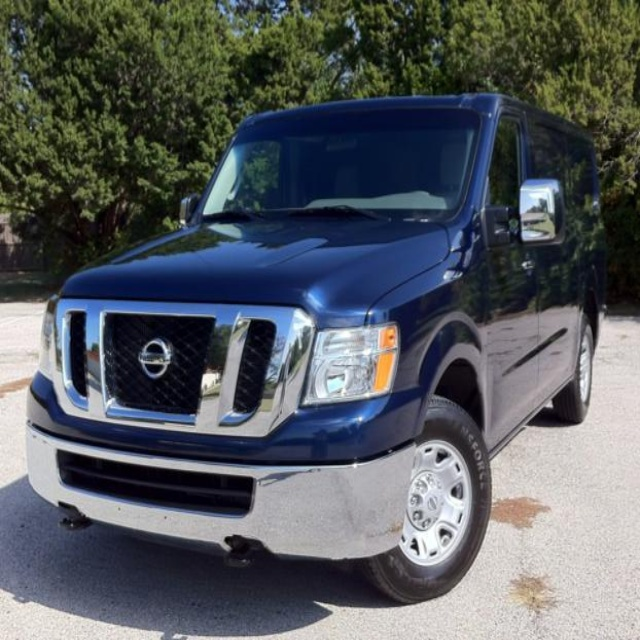Van: (25, 93, 601, 605)
